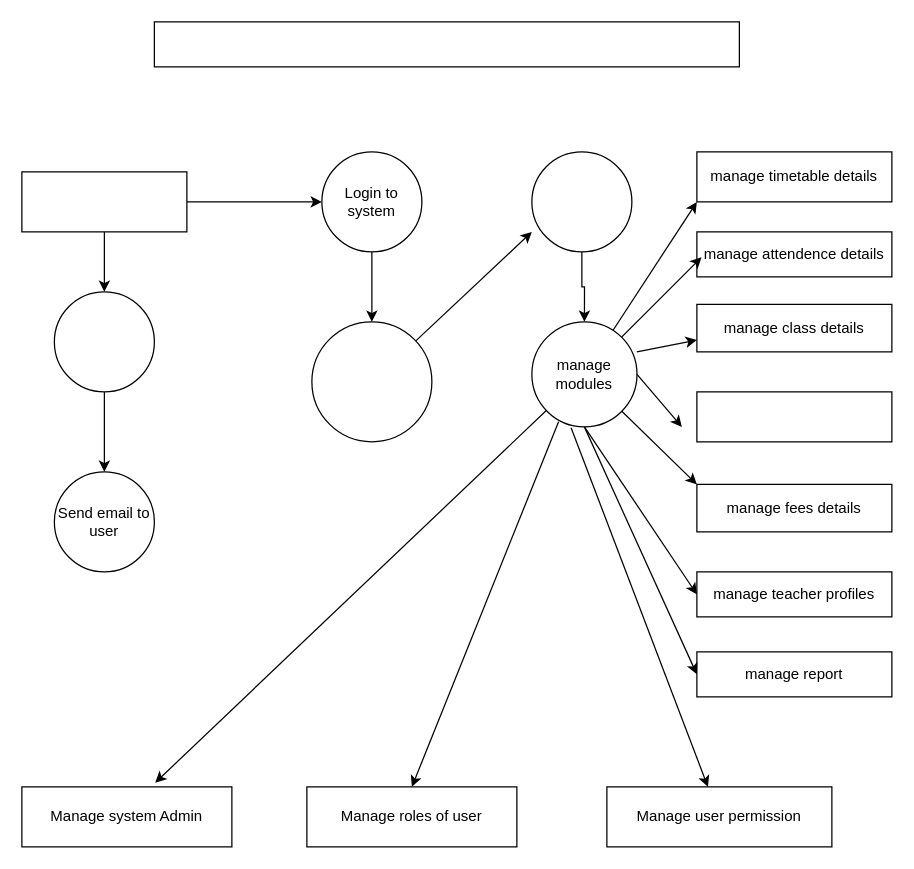
The diagram is 914 pixels wide and 869 high, and some of its shapes have lost their labels. The centre of each missing label's shape, as x and y in pixels:
"Admin" goes at point (104, 201).
"check credentials" goes at point (371, 381).
"check roles of acces" goes at point (581, 201).
"Forgot password" goes at point (103, 341).
"manage student details" goes at point (794, 416).
"Student information system" goes at point (446, 44).
